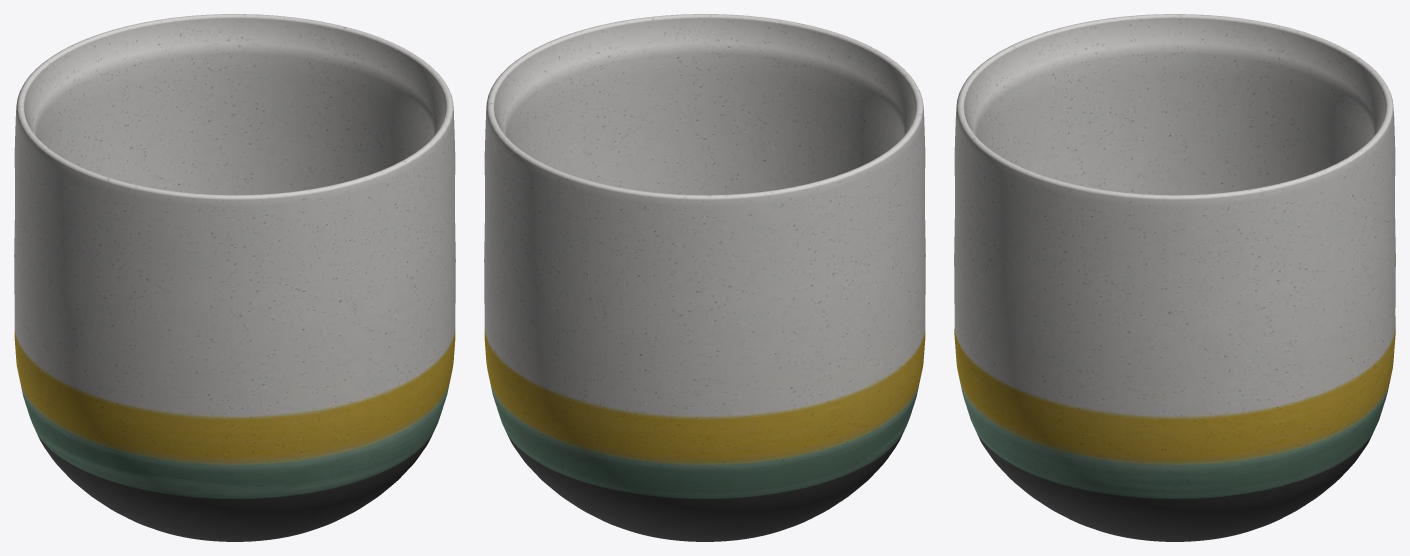
File: abo-B07JM1H7RS.glb
The picture shows the model from 3 angles, left to right: view 1: azimuth 30°, elevation 25°; view 2: azimuth 150°, elevation 25°; view 3: azimuth 270°, elevation 25°; orthographic projection.
Size of the model in its own units: 0.268 by 0.27 by 0.268.
Materials: 1 (1 with a texture image).
